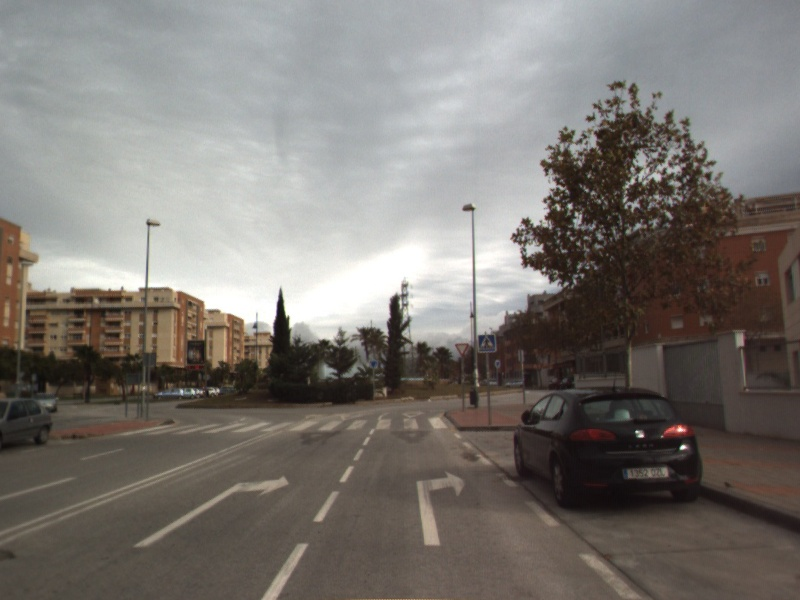RIGHT: (131, 473, 291, 549), (414, 468, 468, 547)
